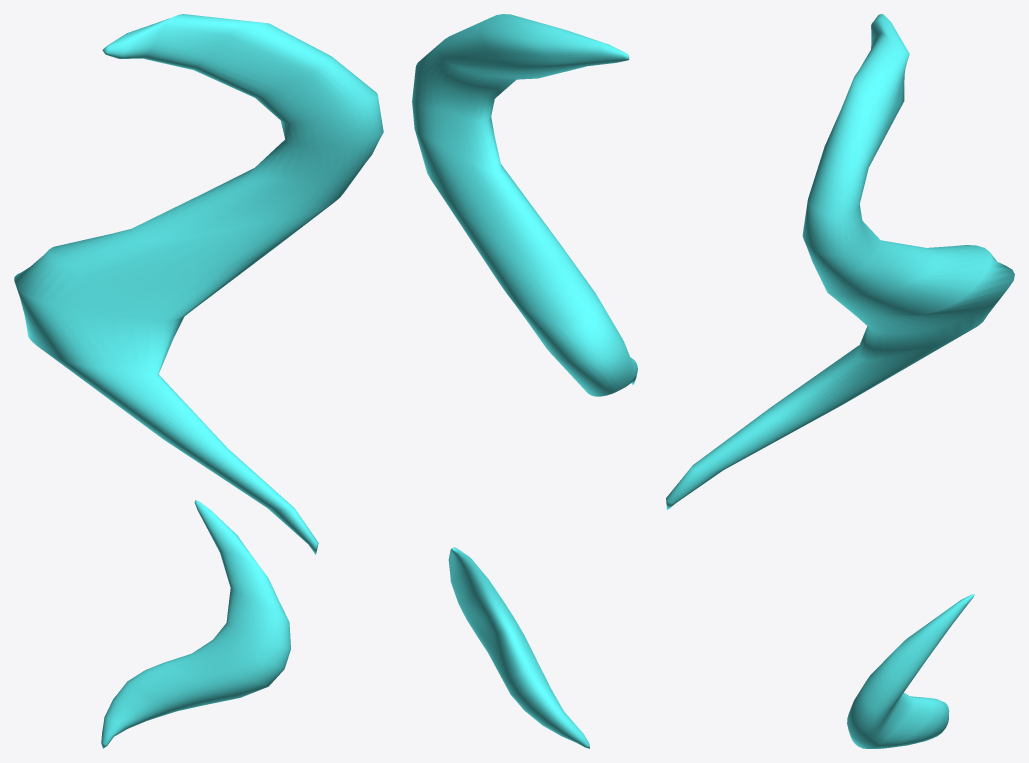
File: IBIS_Mesh_BAS_brouillon.fbx
The picture shows the model from 3 angles, left to right: view 1: azimuth 30°, elevation 25°; view 2: azimuth 150°, elevation 25°; view 3: azimuth 270°, elevation 25°; orthographic projection. The views are drawn at different scales.
Visible parts, largest first — view 1: BRAS.003, BRAS.002; view 2: BRAS.003, BRAS.002; view 3: BRAS.003, BRAS.002.
Boxes of the visible parts, x1=… form: BRAS.003: x1=14, y1=14, x2=383, y2=554; BRAS.002: x1=101, y1=500, x2=290, y2=748; BRAS.003: x1=412, y1=14, x2=637, y2=396; BRAS.002: x1=448, y1=547, x2=589, y2=748; BRAS.003: x1=666, y1=14, x2=1014, y2=510; BRAS.002: x1=847, y1=594, x2=974, y2=748.
Bounding box in the file's own units: 454 × 1111 × 485.
